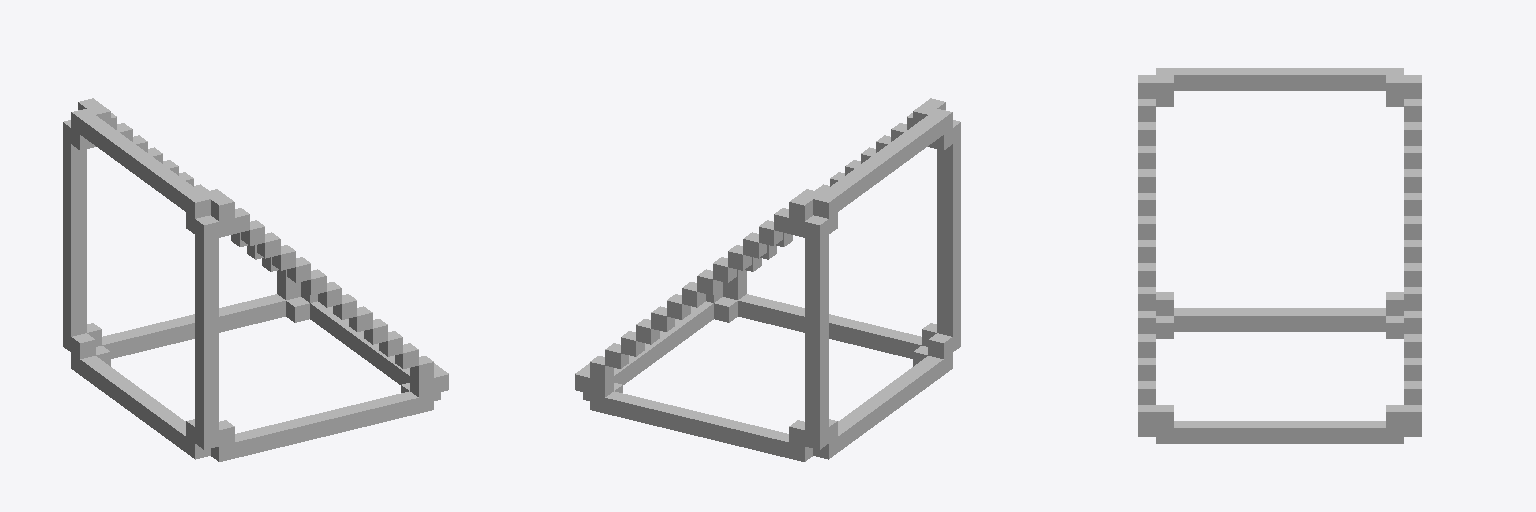
The model's file is frame-sloped.obj.
3 renders of one model, left to right at view 1: azimuth 30°, elevation 25°; view 2: azimuth 150°, elevation 25°; view 3: azimuth 270°, elevation 25°, orthographic.
Bounding box in the file's own units: 16 × 16 × 16.